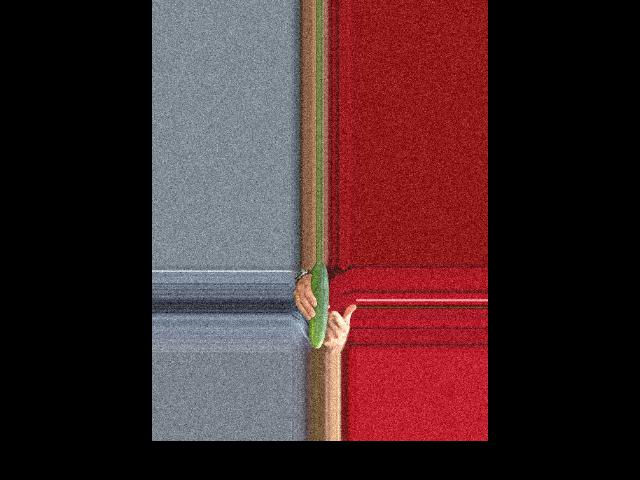cucumber: (308, 262, 328, 348)
